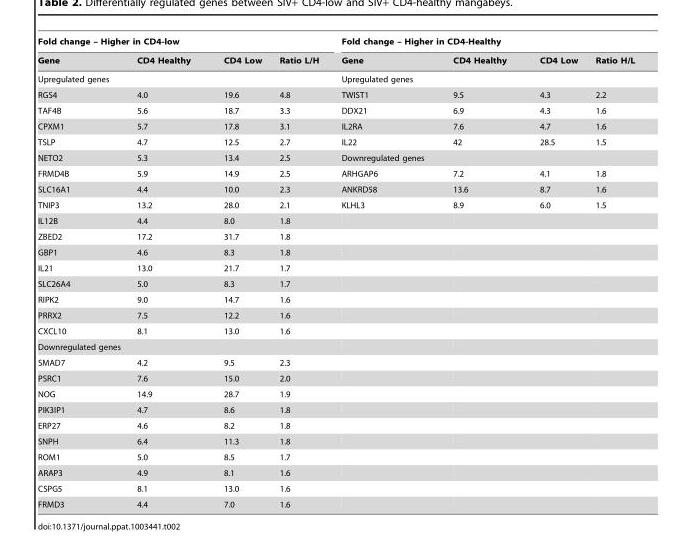table: (37, 36, 634, 508)
table column: (414, 36, 522, 508), (102, 36, 206, 508), (329, 36, 414, 508), (37, 36, 102, 508), (522, 36, 586, 508), (206, 36, 269, 508), (269, 36, 329, 508), (586, 36, 634, 508)
table column header: (37, 36, 634, 69)
table projected row header: (37, 338, 634, 354)
table row: (37, 50, 634, 69), (37, 69, 634, 86), (37, 86, 634, 102), (37, 102, 634, 118), (37, 118, 634, 134), (37, 149, 634, 165), (37, 165, 634, 181), (37, 181, 634, 197), (37, 212, 634, 228), (37, 228, 634, 244), (37, 244, 634, 260), (37, 275, 634, 291), (37, 291, 634, 307), (37, 307, 634, 323), (37, 338, 634, 354), (37, 354, 634, 370), (37, 370, 634, 386), (37, 401, 634, 417), (37, 417, 634, 433), (37, 433, 634, 449), (37, 464, 634, 480), (37, 480, 634, 496), (37, 134, 634, 149), (37, 197, 634, 212), (37, 260, 634, 275), (37, 323, 634, 338), (37, 386, 634, 401), (37, 449, 634, 464), (37, 36, 634, 50), (37, 496, 634, 508)
table spanning cell: (329, 69, 634, 86), (37, 69, 329, 86), (329, 149, 634, 165), (329, 36, 634, 50), (37, 36, 329, 50)
